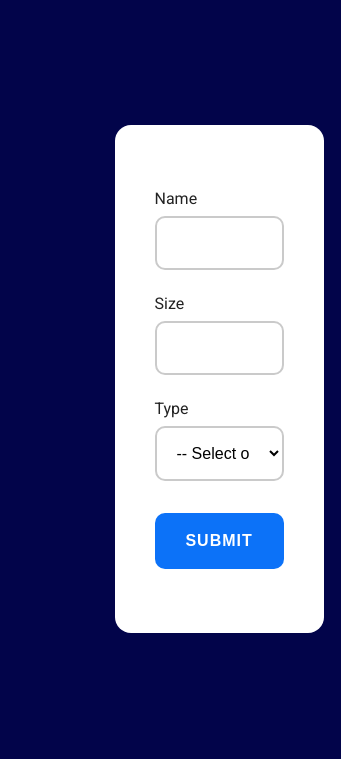
Scenario: When the user submits the form and the server returns an inalid request error › The form page must display the error message “The form is invalid, the fields [field1...fieldN] are required””
Click the button "Submit" at (219, 541), box top-left (154, 513), bottom-right (284, 569)
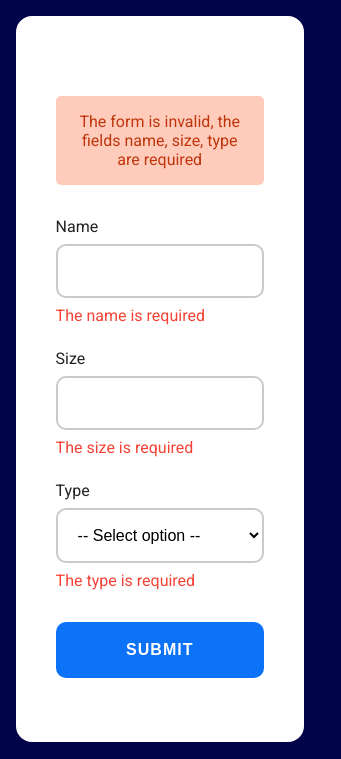
Expected: the text "The form is invalid, the fields name, size, type are required" is shown, top-left (56, 96), bottom-right (264, 185)
